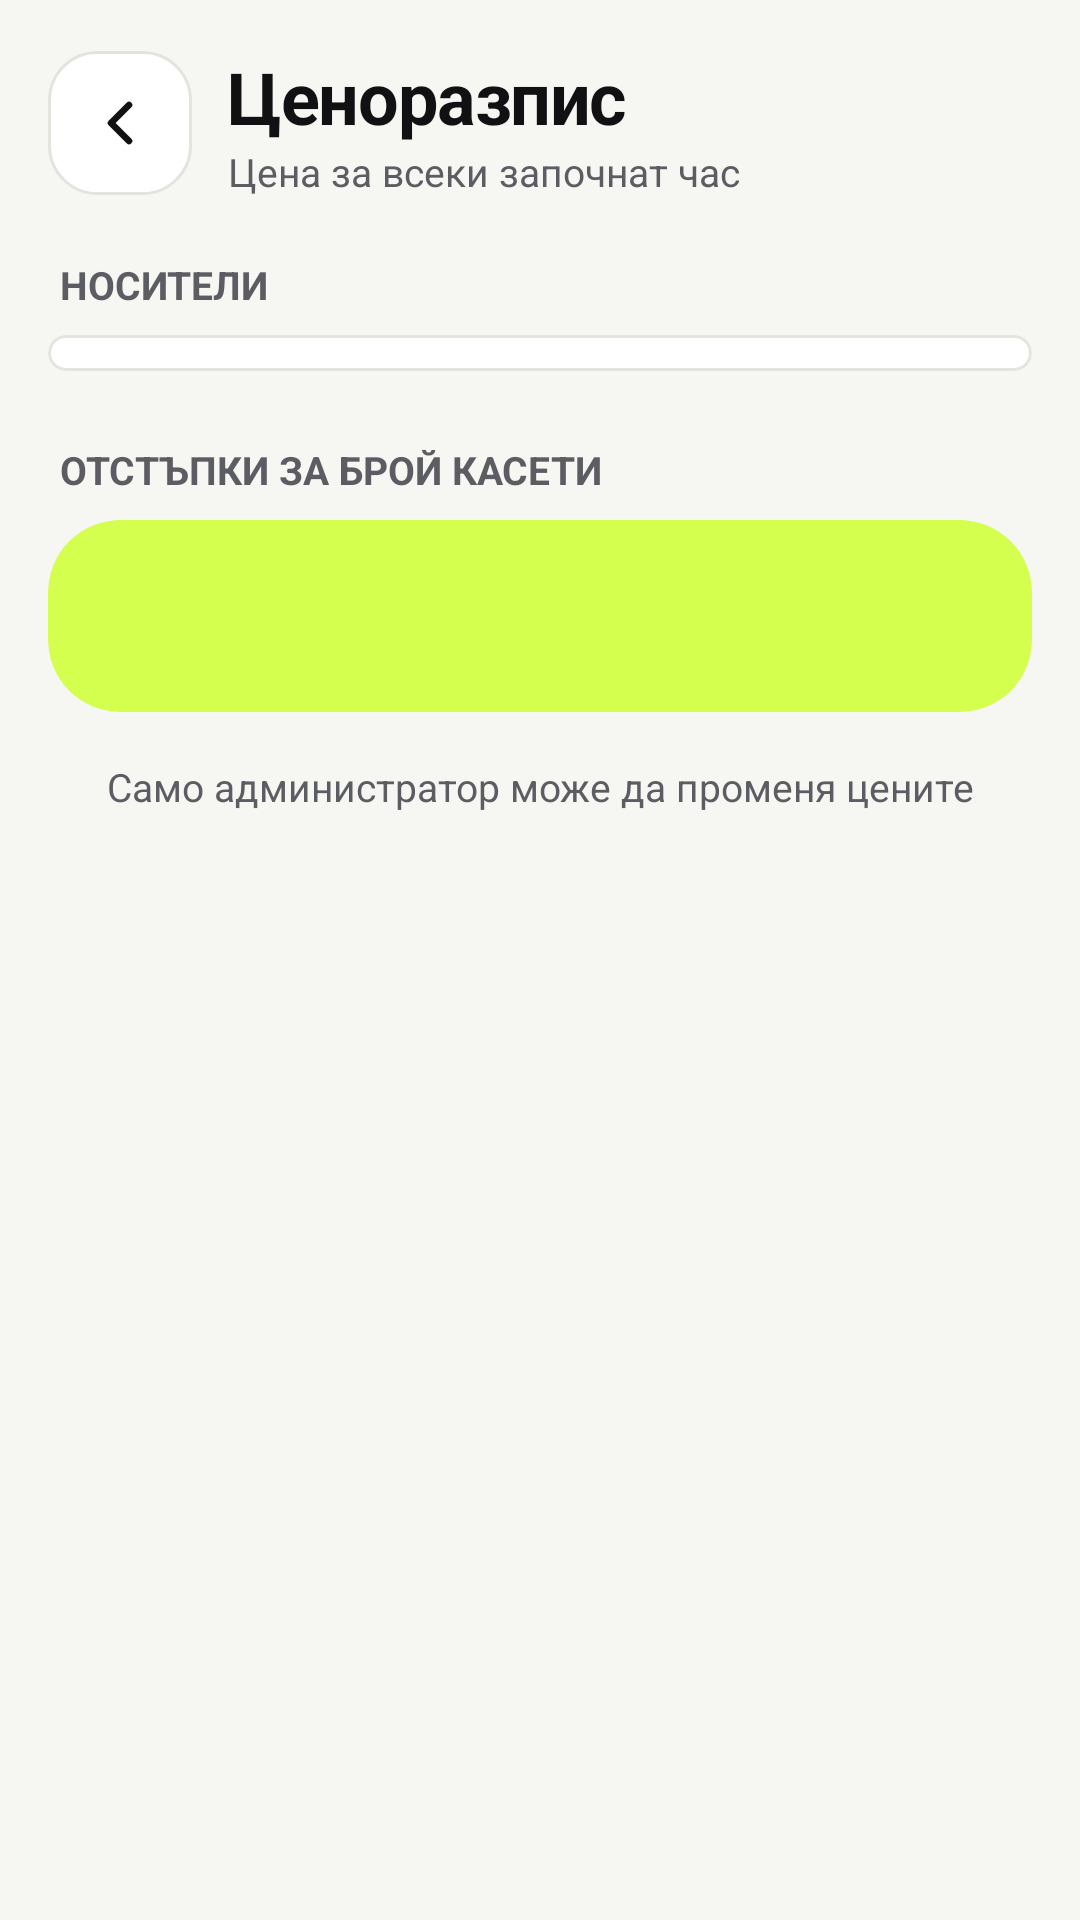

Icons on this 1080px x 1920px Android screen, each with its box as (x1, y1, x2, y2):
Назад: (48, 51, 192, 195)
